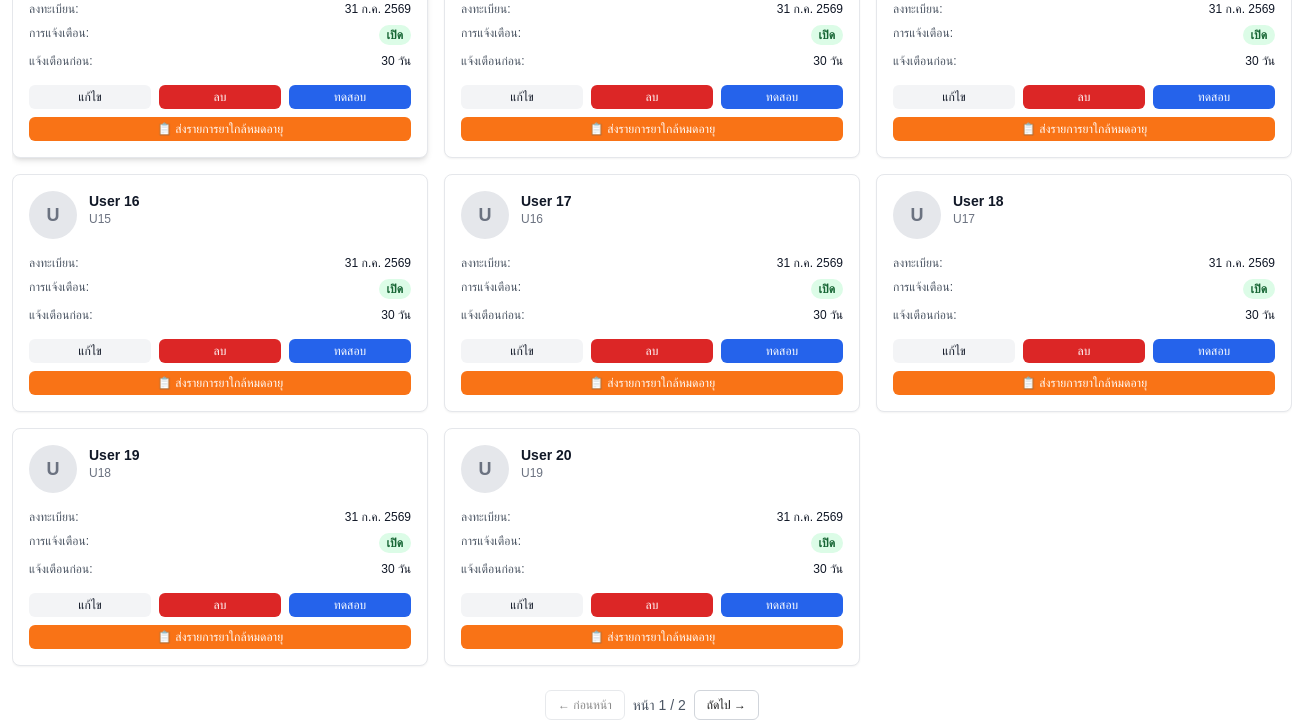
LineUserList › Pagination (Requirement 3.5) › should navigate to next page when clicking next button
This screenshot has width=1292, height=720.
(page scrolled)
Click the button "ถัดไป →" at (726,705), box x1=694 y1=690 x2=759 y2=719
(page scrolled)
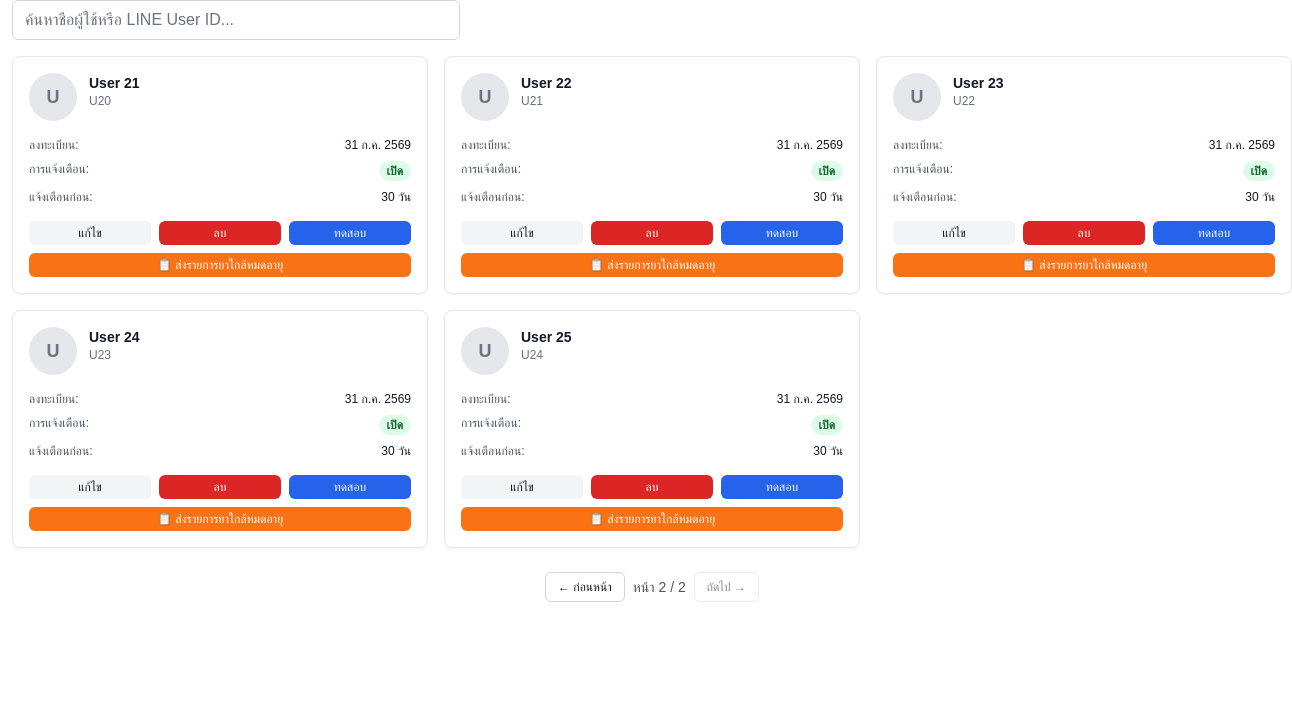
Check: the text "หน้า 2 / 2" is shown, box x1=633 y1=577 x2=686 y2=597
